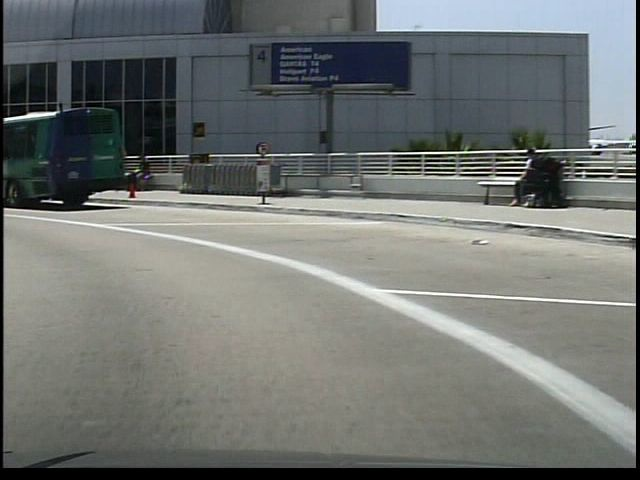person: (125, 150, 150, 195)
